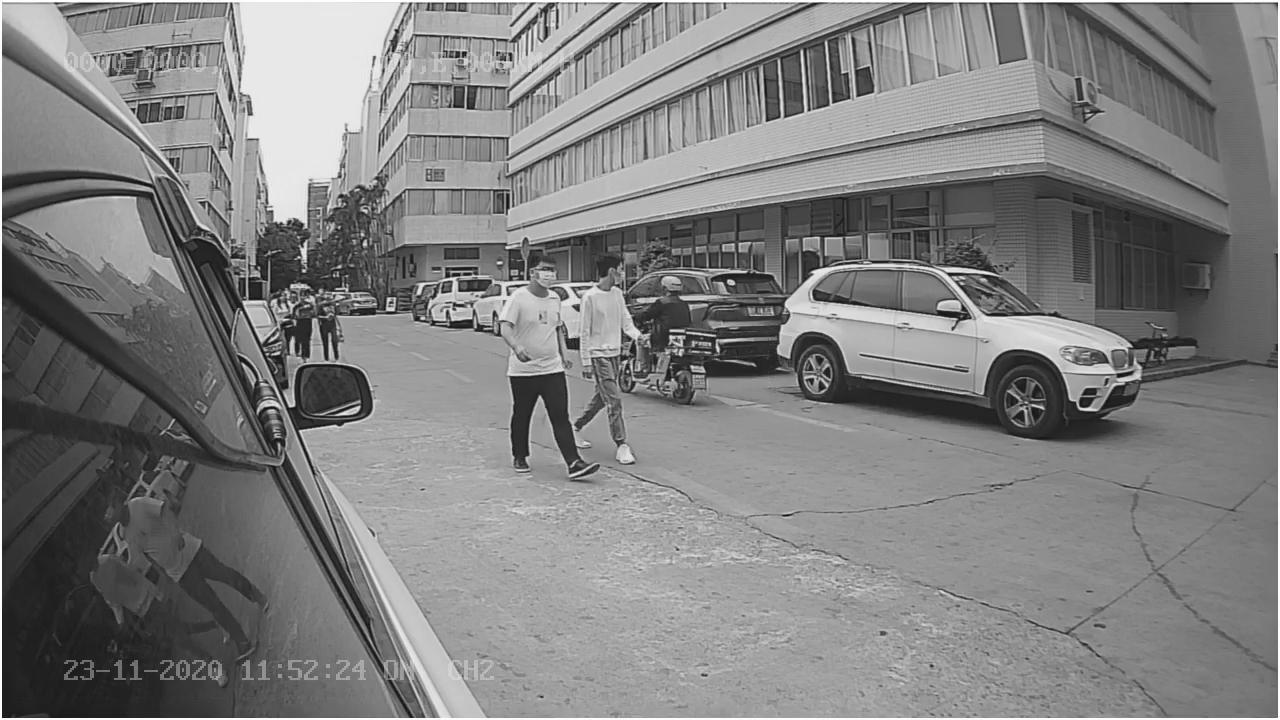person: (504, 261, 573, 485), (578, 256, 640, 459)
